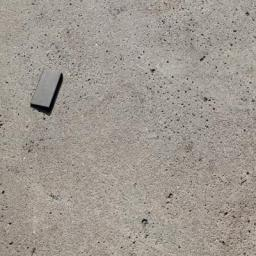FOD: (31, 67, 66, 118)
